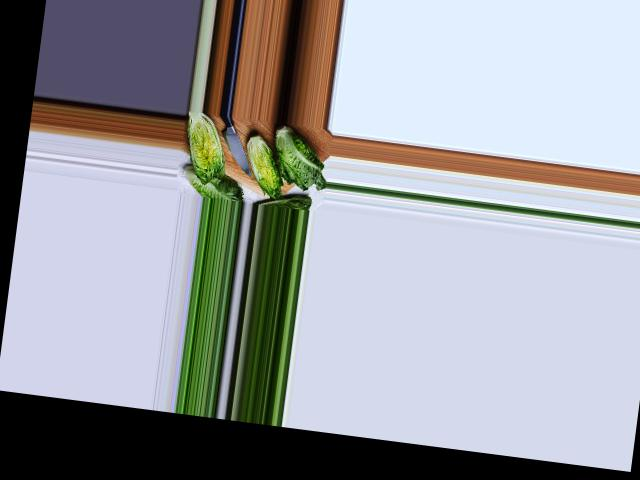lettuce: (181, 165, 245, 199)
